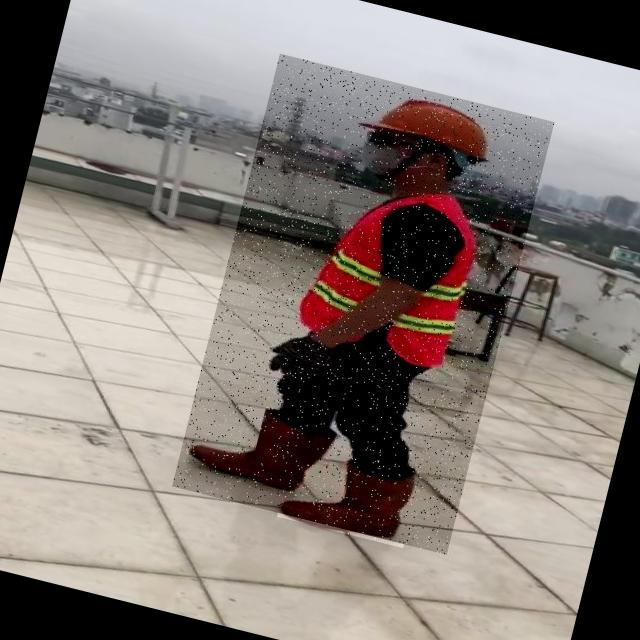Gloves: (264, 332, 333, 384)
Helmet: (369, 85, 499, 161)
Human: (172, 54, 554, 555)
Safety Boot: (276, 443, 421, 548), (187, 397, 335, 498)
Safety Vest: (295, 168, 490, 372)
